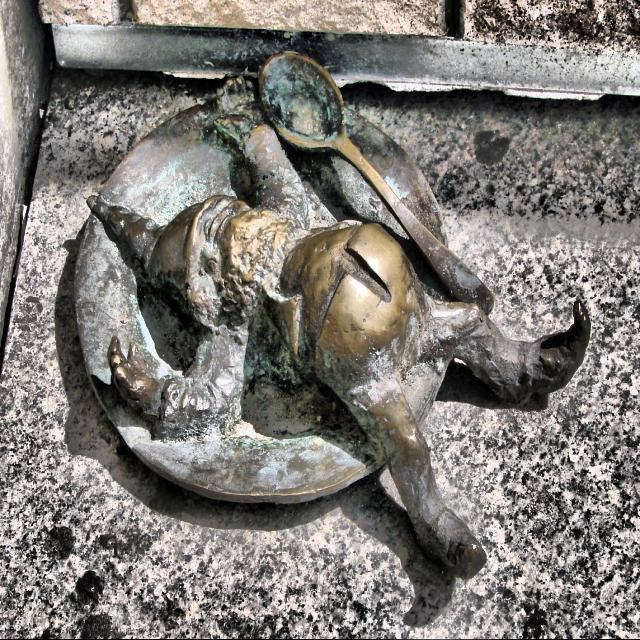Obiezysmak: (75, 52, 591, 581)
